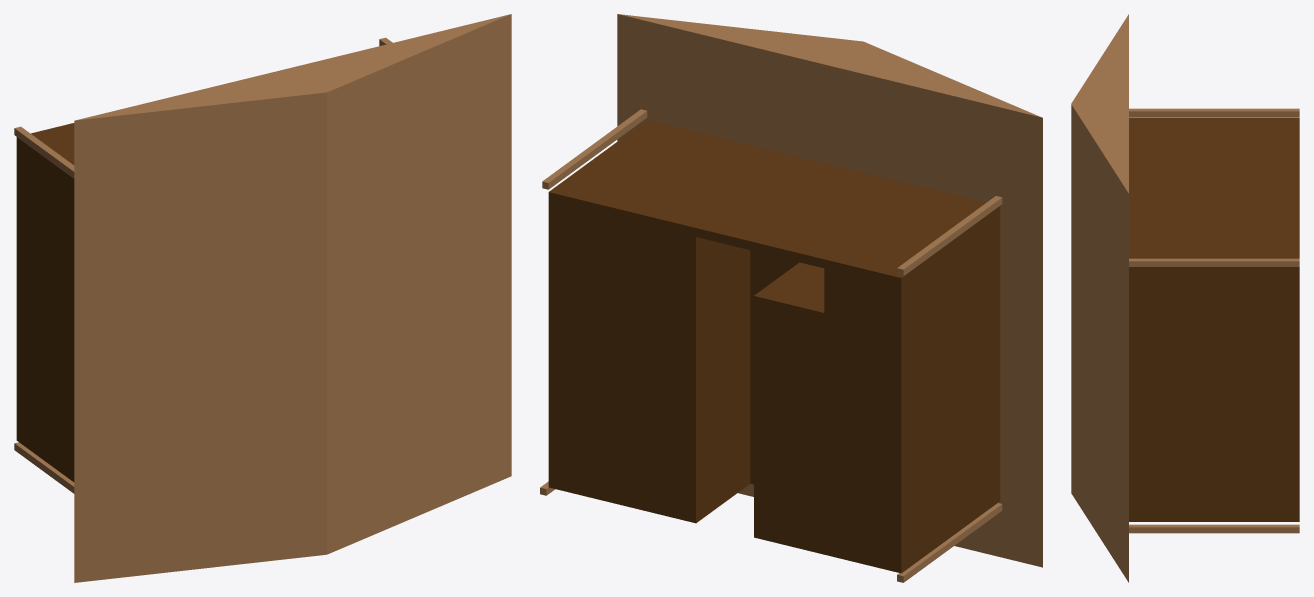
File: tinker.obj
3 renders of one model, left to right at view 1: azimuth 30°, elevation 25°; view 2: azimuth 150°, elevation 25°; view 3: azimuth 270°, elevation 25°, orthographic. The views are drawn at different scales.
Visible parts, largest first — view 1: obj_4, obj_5, obj_1, obj_2; view 2: obj_5, obj_4, obj_1, obj_3, obj_2; view 3: obj_5, obj_4, obj_0, obj_1, obj_3.
Boxes of the visible parts, x1,y1,x2,y2 form: obj_4: (74, 14, 511, 582); obj_5: (16, 123, 74, 482); obj_1: (14, 126, 74, 178); obj_2: (14, 442, 74, 493); obj_5: (548, 120, 1000, 573); obj_4: (617, 14, 1042, 567); obj_1: (897, 196, 1002, 276); obj_3: (542, 109, 647, 189); obj_2: (897, 503, 1002, 582); obj_5: (1129, 117, 1299, 521); obj_4: (1071, 14, 1128, 582); obj_0: (1129, 524, 1299, 533); obj_1: (1129, 108, 1299, 116); obj_3: (1129, 258, 1299, 266).
Bounding box in the file's own units: 199 × 201 × 107.
